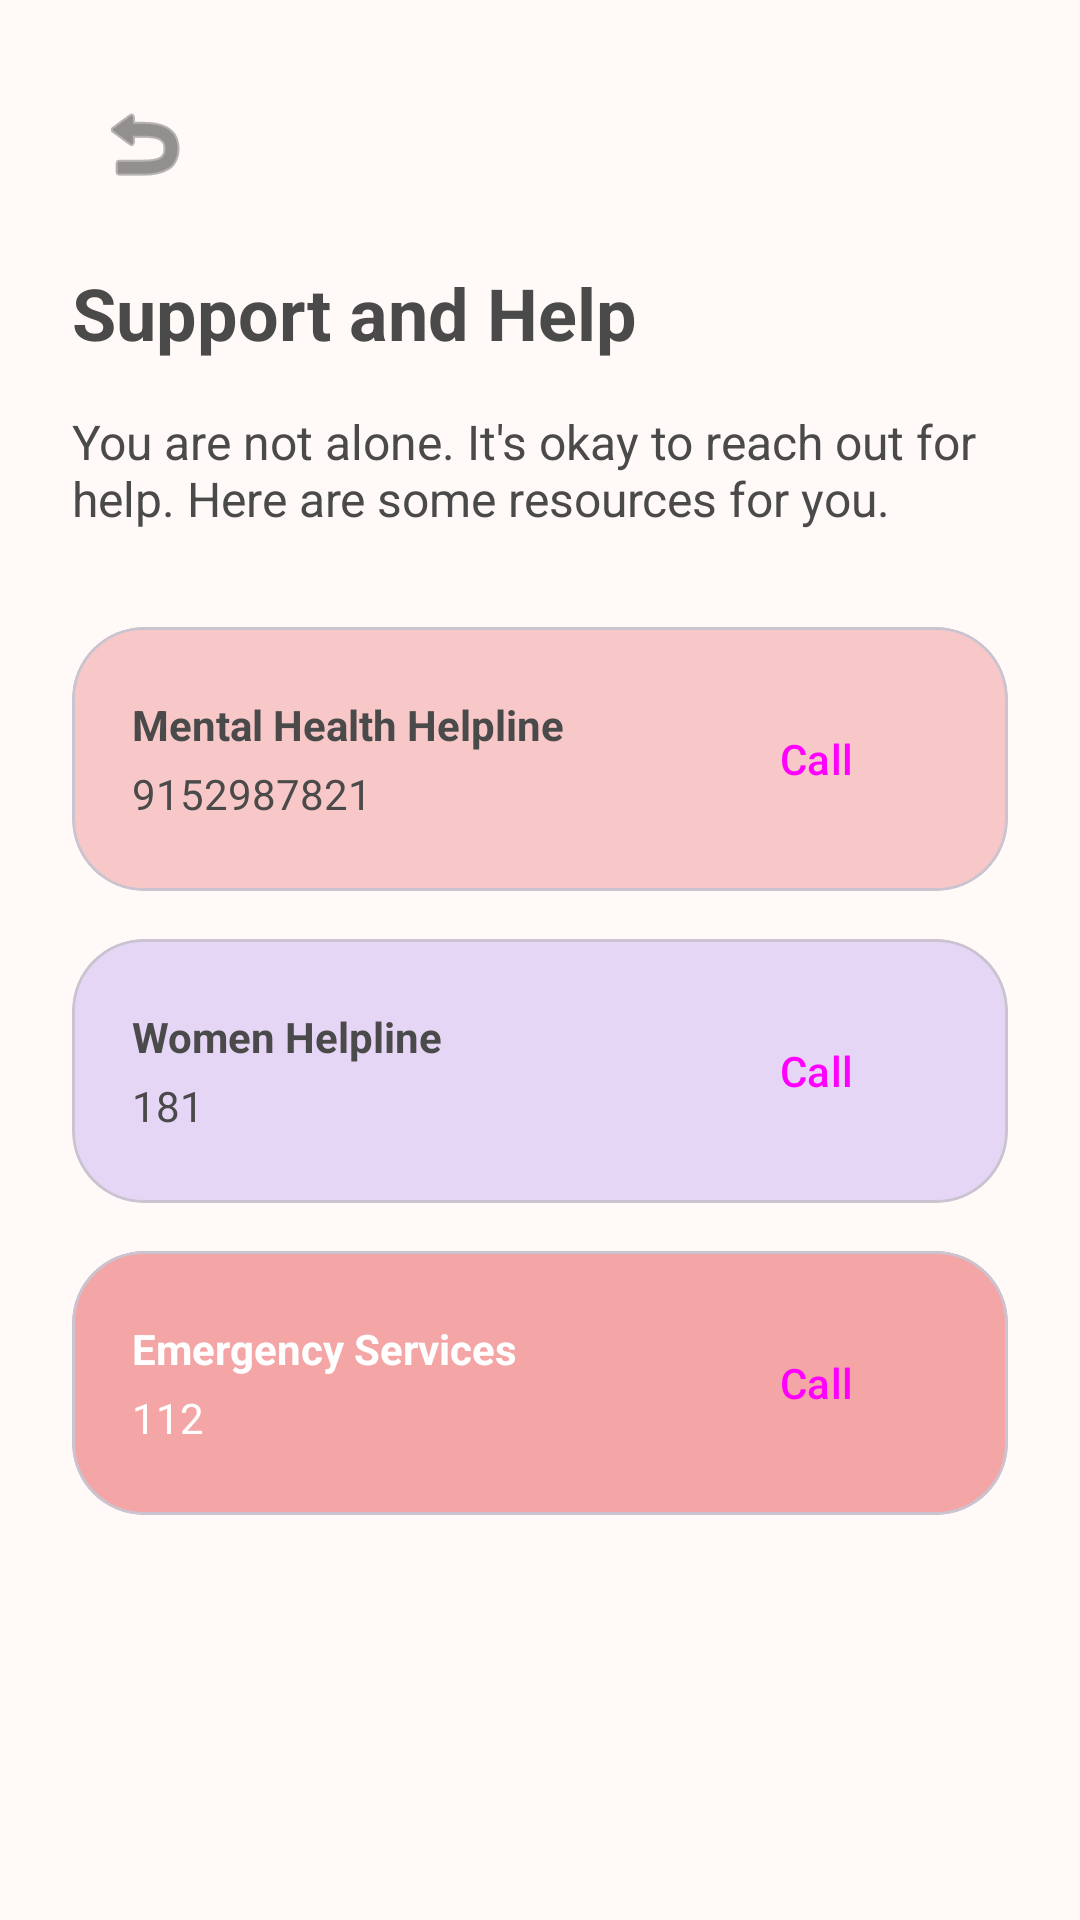

Icon click points for this 1080w x 1920h phone screenshot, format point (x, y):
Back: point (145, 144)
